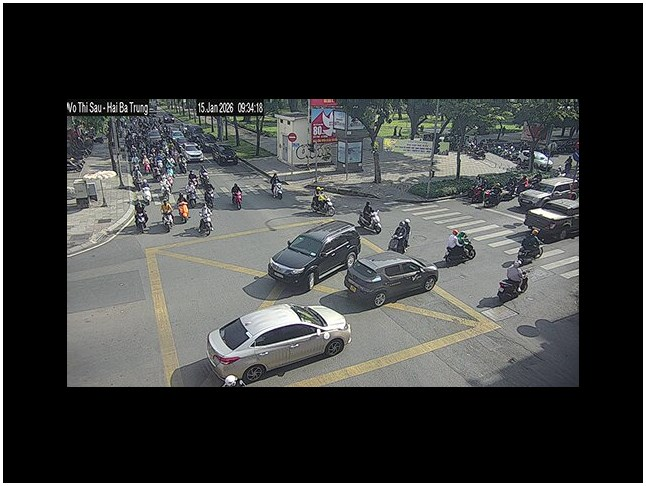car: (205, 302, 352, 385), (267, 220, 360, 290), (343, 248, 439, 308), (523, 202, 578, 243), (183, 143, 205, 161)
